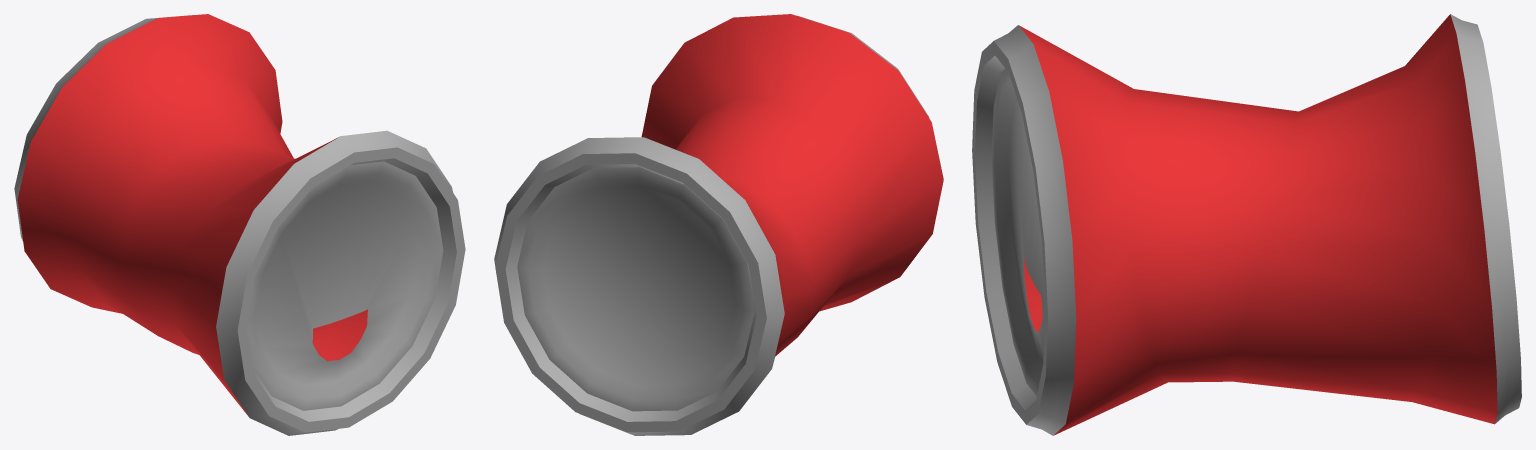
Rendered from crushed_can.fbx.
The picture shows the model from 3 angles, left to right: view 1: azimuth 30°, elevation 25°; view 2: azimuth 150°, elevation 25°; view 3: azimuth 270°, elevation 25°; orthographic projection. The views are drawn at different scales.
Visible parts, largest first — view 1: Crushed Can; view 2: Crushed Can; view 3: Crushed Can.
Part boxes in pixels (x1,y1,x2,y2): Crushed Can: [14, 14, 465, 435]; Crushed Can: [494, 14, 943, 435]; Crushed Can: [972, 14, 1521, 435].
Bounding box in the file's own units: 28.72 × 27.5 × 36.52.
